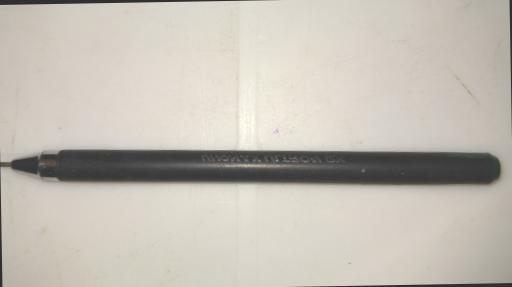pen: (0, 140, 501, 192)
